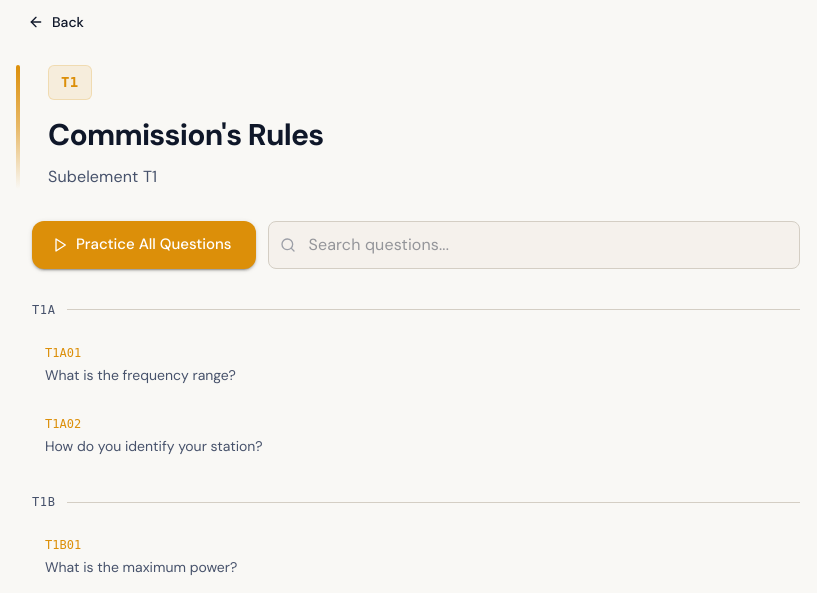
QuestionListView › Search › filters questions by question text
In the field with placeholder "Search questions...": (546, 244) [308, 228, 783, 260], type "frequency"
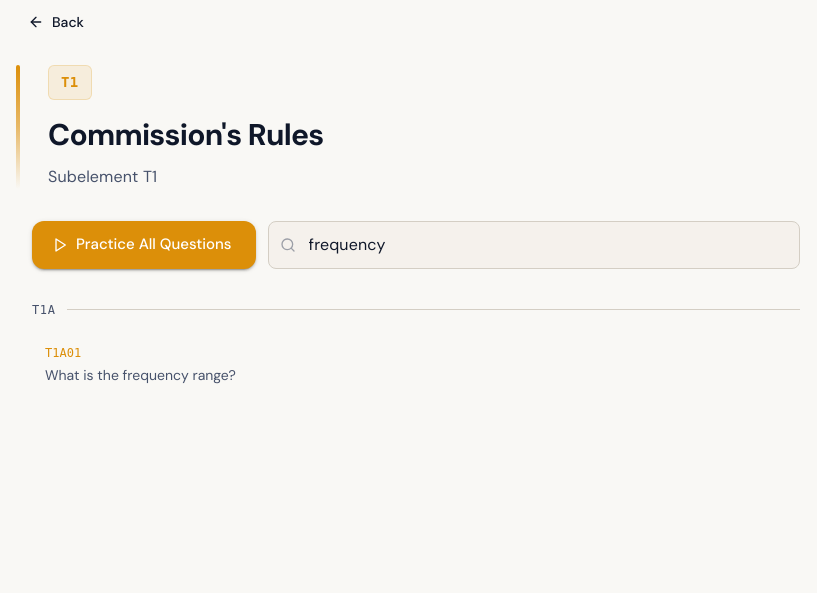
Expected: the text "T1A01" is shown, [45, 344, 81, 362]
Expected: the button "T1A02" is gone
